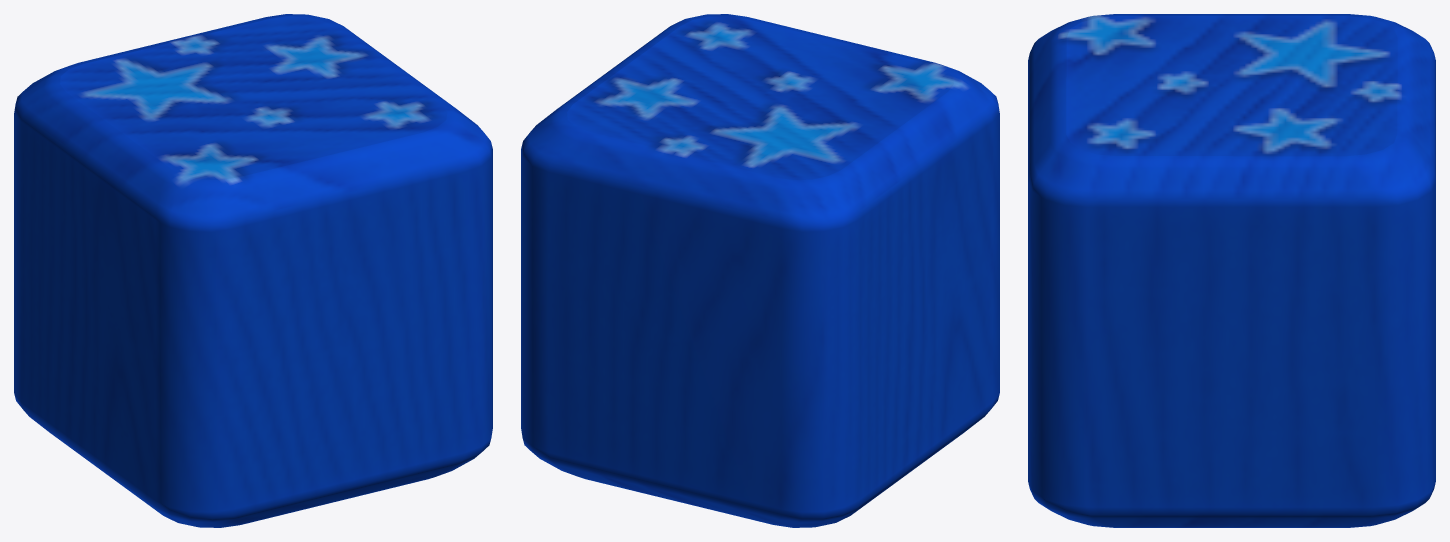
File: Star_Block_01.fbx
3 renders of one model, left to right at view 1: azimuth 30°, elevation 25°; view 2: azimuth 150°, elevation 25°; view 3: azimuth 270°, elevation 25°, orthographic. The views are drawn at different scales.
Parts seen in each view (by area): view 1: Star_Block_01; view 2: Star_Block_01; view 3: Star_Block_01.
Boxes of the visible parts, box(x1,y1,x2,y2) form: Star_Block_01: box(14, 14, 492, 527); Star_Block_01: box(521, 14, 999, 527); Star_Block_01: box(1028, 14, 1435, 527).
Size of the model in its own units: 1 by 1 by 1.
1 material, 1 textured.
